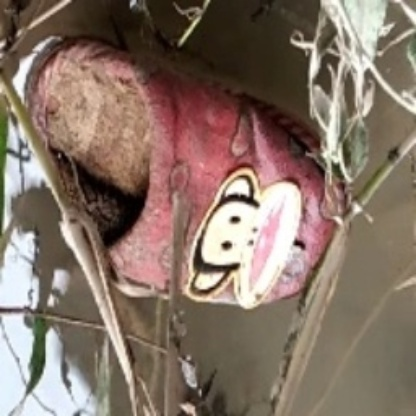plastic-garbage: (30, 34, 346, 305)
